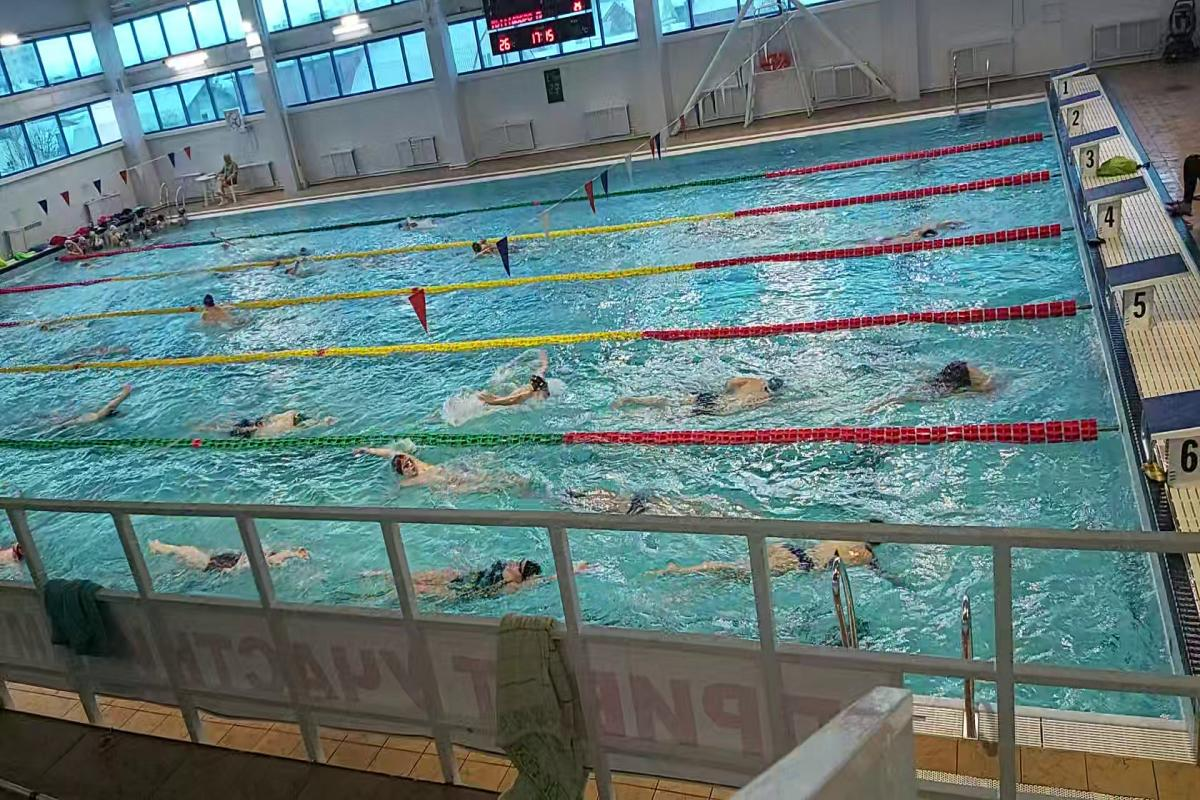swimmer: (655, 526, 885, 580), (148, 528, 328, 587), (348, 445, 514, 505), (459, 339, 568, 419), (414, 547, 552, 608), (895, 342, 1002, 404), (659, 376, 796, 421), (69, 376, 150, 435), (570, 483, 702, 519), (208, 409, 348, 438), (183, 292, 246, 332), (874, 215, 966, 241), (278, 253, 323, 284), (466, 239, 501, 260)
